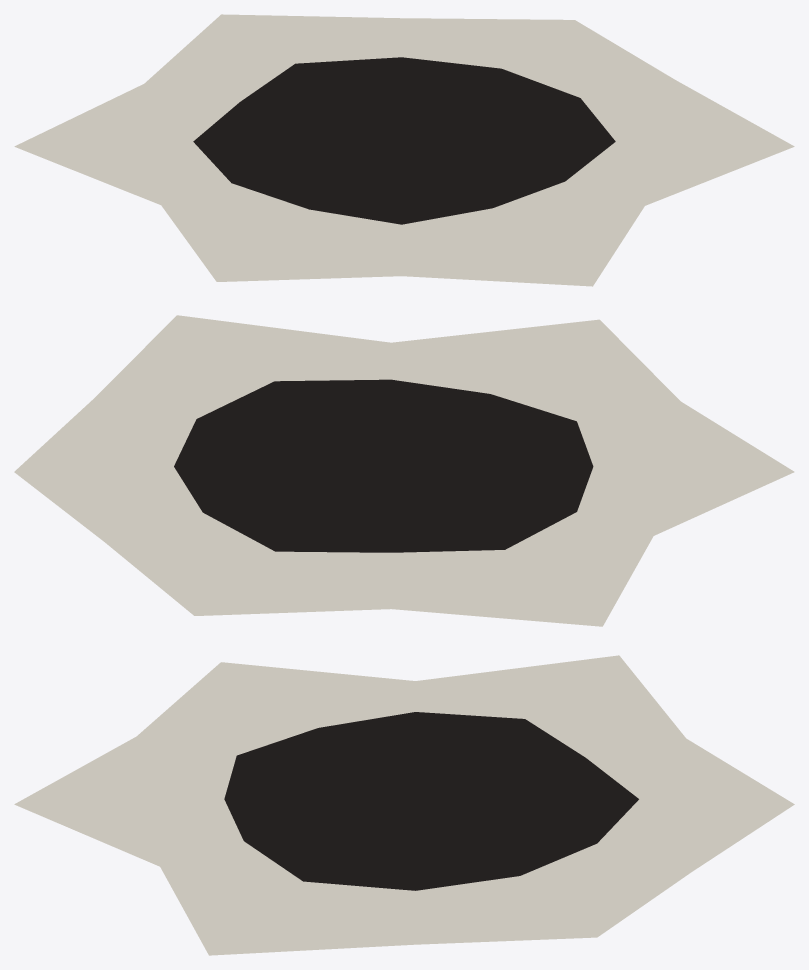
File: hole_wall_10.obj
The picture shows the model from 3 angles, top to bottom: view 1: azimuth 30°, elevation 25°; view 2: azimuth 150°, elevation 25°; view 3: azimuth 270°, elevation 25°; orthographic projection. The views are drawn at different scales.
Size of the model in its own units: 0.0492 by 0.0004 by 0.0541.
